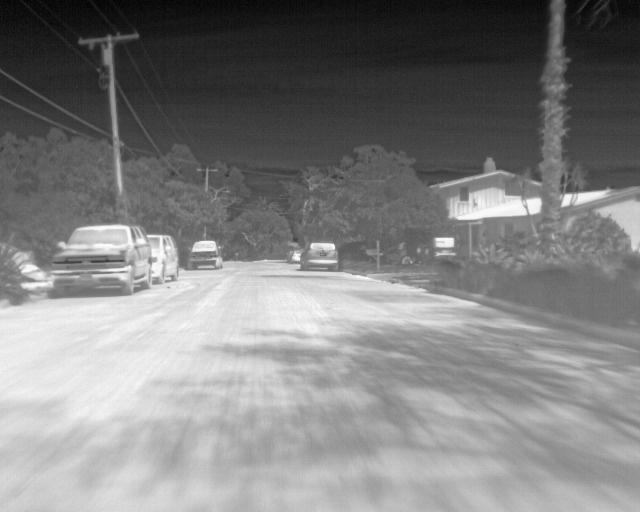car: (51, 221, 151, 296), (145, 233, 180, 285), (301, 239, 340, 274), (188, 239, 224, 269), (285, 250, 303, 264)
